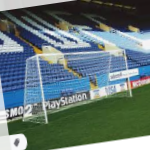goals: (23, 47, 133, 124)
